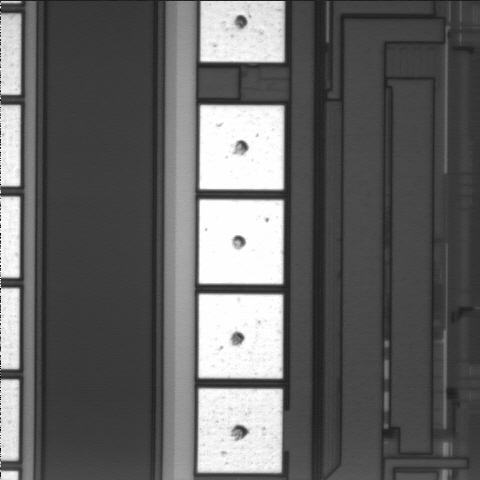pad: (199, 105, 284, 190), (199, 199, 284, 284), (198, 388, 283, 473), (199, 294, 283, 379)
